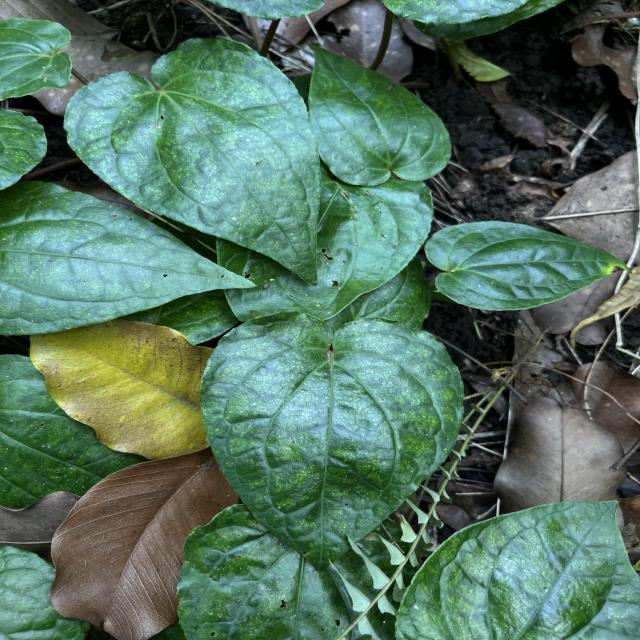Piper betle: (197, 306, 467, 574), (61, 34, 324, 288)
